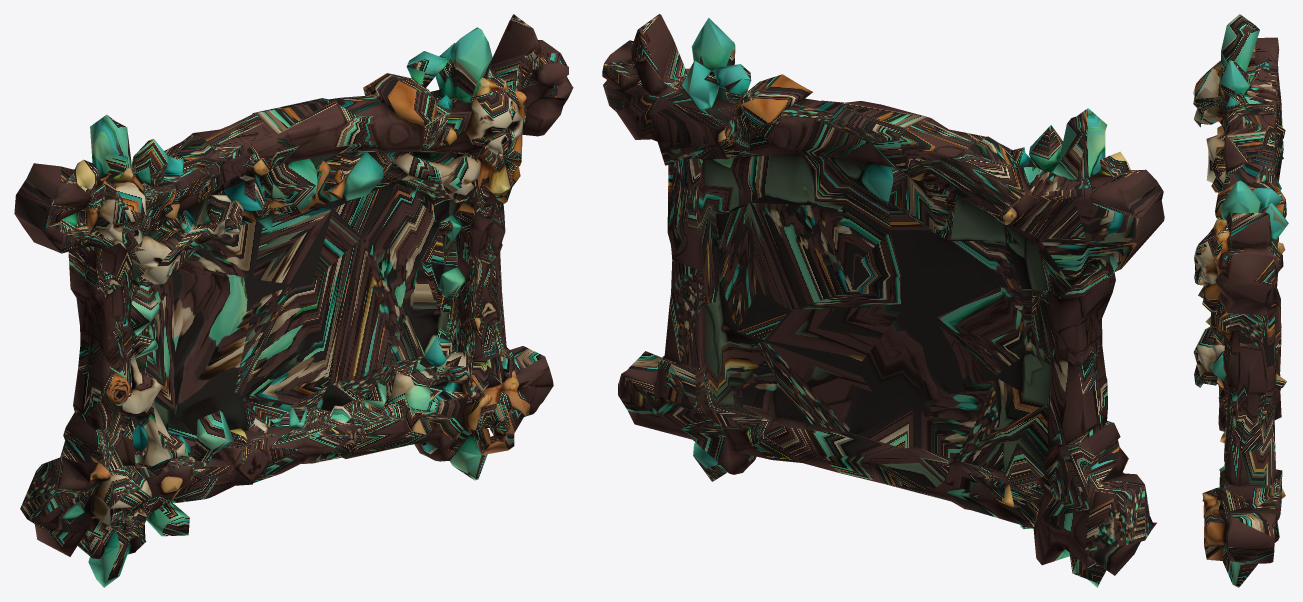
The model's file is emerald_cave_warning_sign_01.glb.
The picture shows the model from 3 angles, left to right: view 1: azimuth 30°, elevation 25°; view 2: azimuth 150°, elevation 25°; view 3: azimuth 270°, elevation 25°; orthographic projection. The views are drawn at different scales.
Parts seen in each view (by area): view 1: tripo_node_8885cad3-e808-4282-b0a9-7d79e1cf6b37; view 2: tripo_node_8885cad3-e808-4282-b0a9-7d79e1cf6b37; view 3: tripo_node_8885cad3-e808-4282-b0a9-7d79e1cf6b37.
Part boxes in pixels (x1=…): tripo_node_8885cad3-e808-4282-b0a9-7d79e1cf6b37: x1=14, y1=14, x2=573, y2=587; tripo_node_8885cad3-e808-4282-b0a9-7d79e1cf6b37: x1=602, y1=14, x2=1164, y2=587; tripo_node_8885cad3-e808-4282-b0a9-7d79e1cf6b37: x1=1193, y1=14, x2=1288, y2=587.
Size of the model in its own units: 0.9773 by 0.8288 by 0.1693.
1 material, 1 textured.
